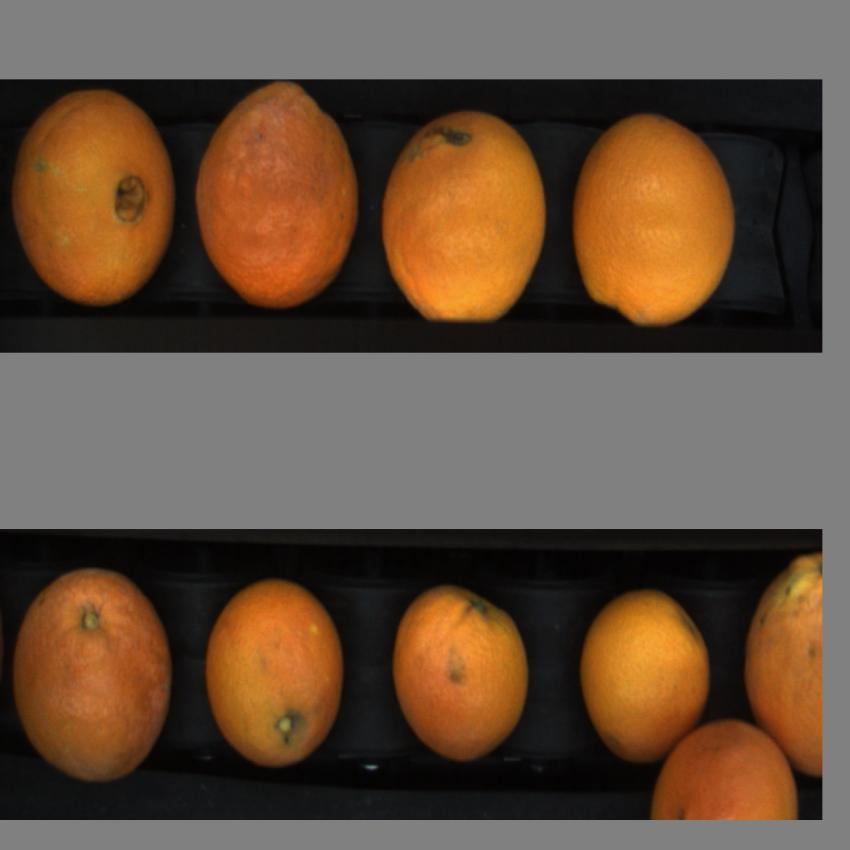Buen estado: (377, 101, 552, 324), (11, 84, 178, 315), (568, 107, 738, 329), (201, 573, 351, 781), (388, 573, 533, 772), (576, 584, 713, 778), (650, 712, 804, 821)
Mal estado: (193, 81, 366, 318), (9, 567, 175, 785), (742, 548, 822, 782)
